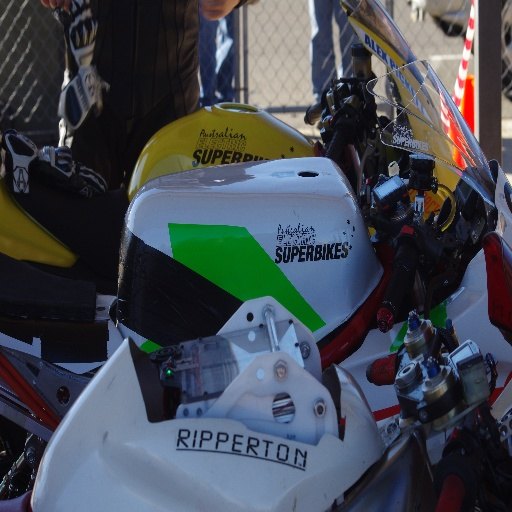hand: (200, 0, 238, 22), (40, 0, 74, 13)
